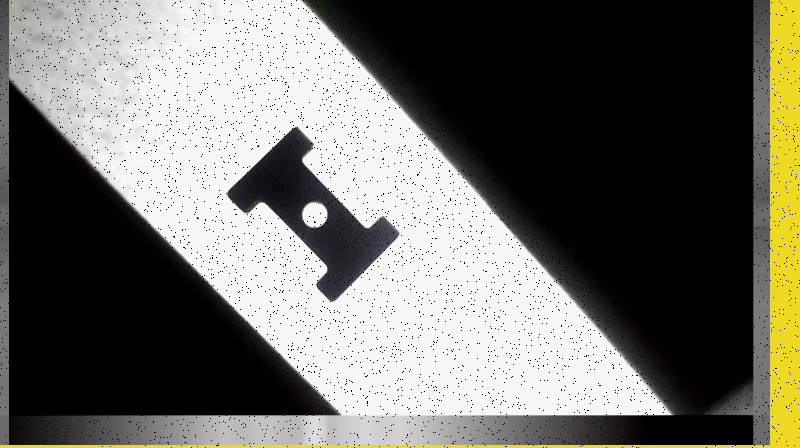O002: (222, 122, 400, 303)
